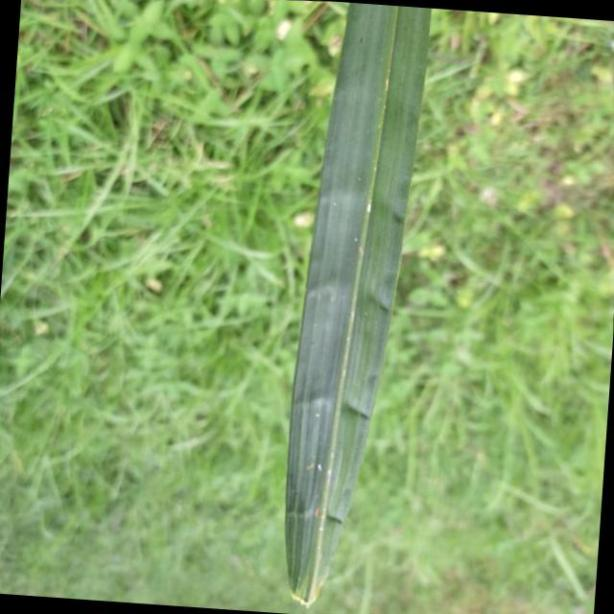Boron: (286, 0, 427, 610)
